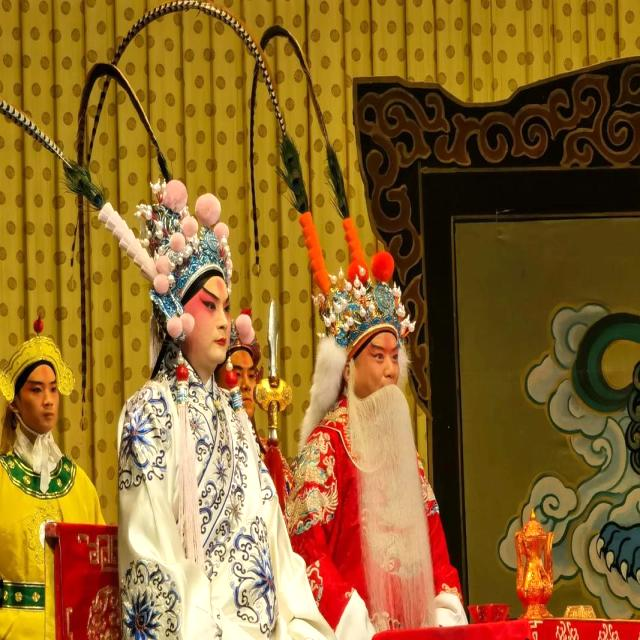Reeves-s Pheasant: (0, 0, 349, 254)
